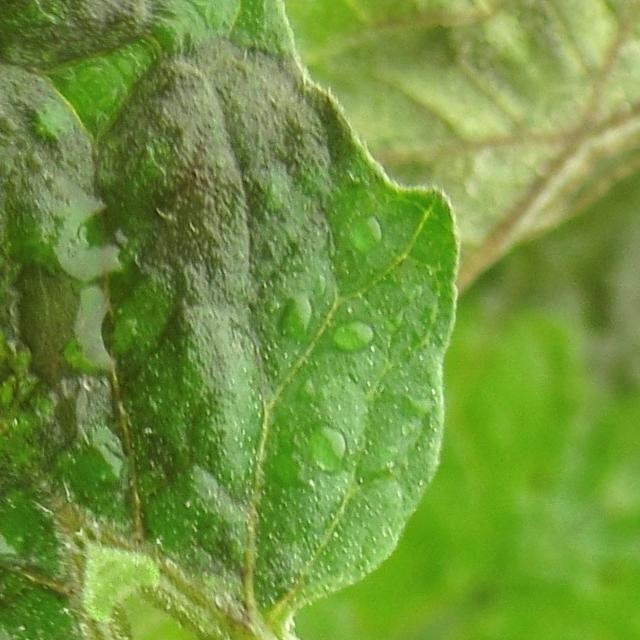Tomato leaf late blight: (0, 0, 618, 640)
